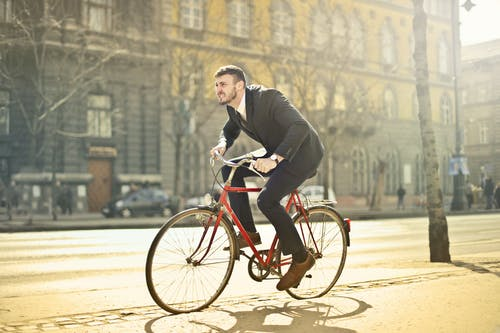bicycle: (142, 142, 357, 321)
